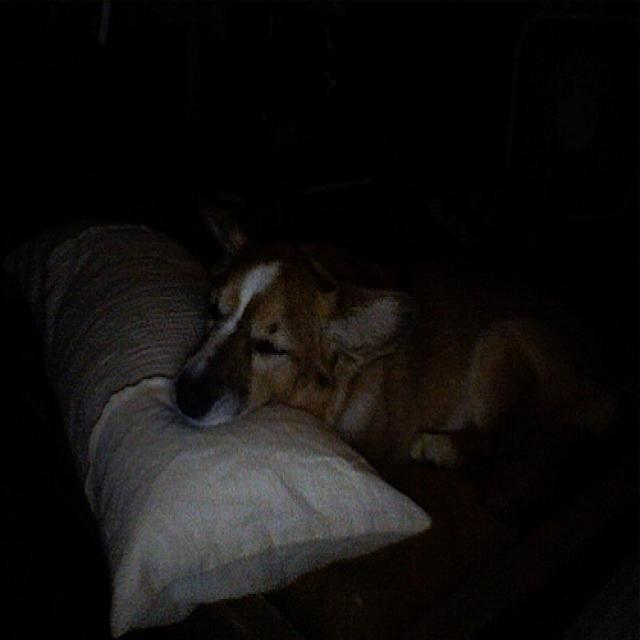Dog: (152, 172, 584, 532)
